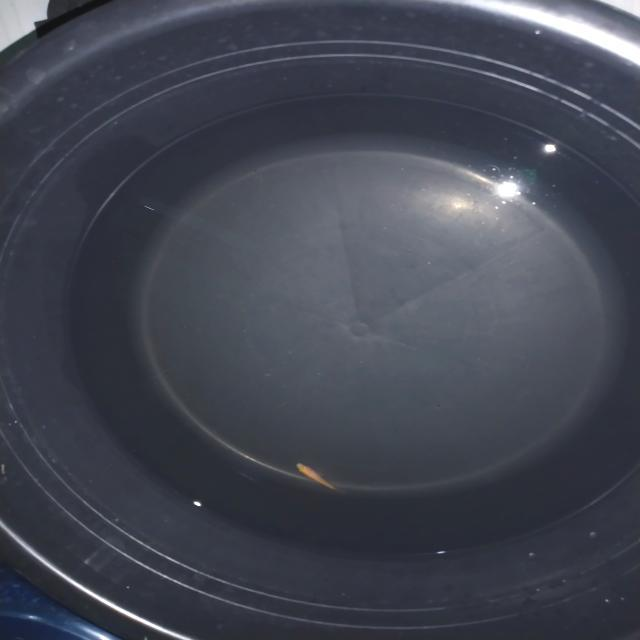nila: (294, 460, 340, 496)
